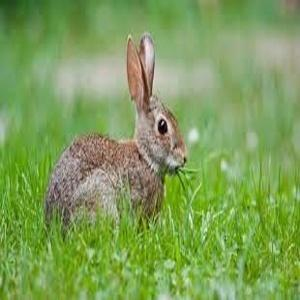rabbit: (45, 33, 186, 227)
